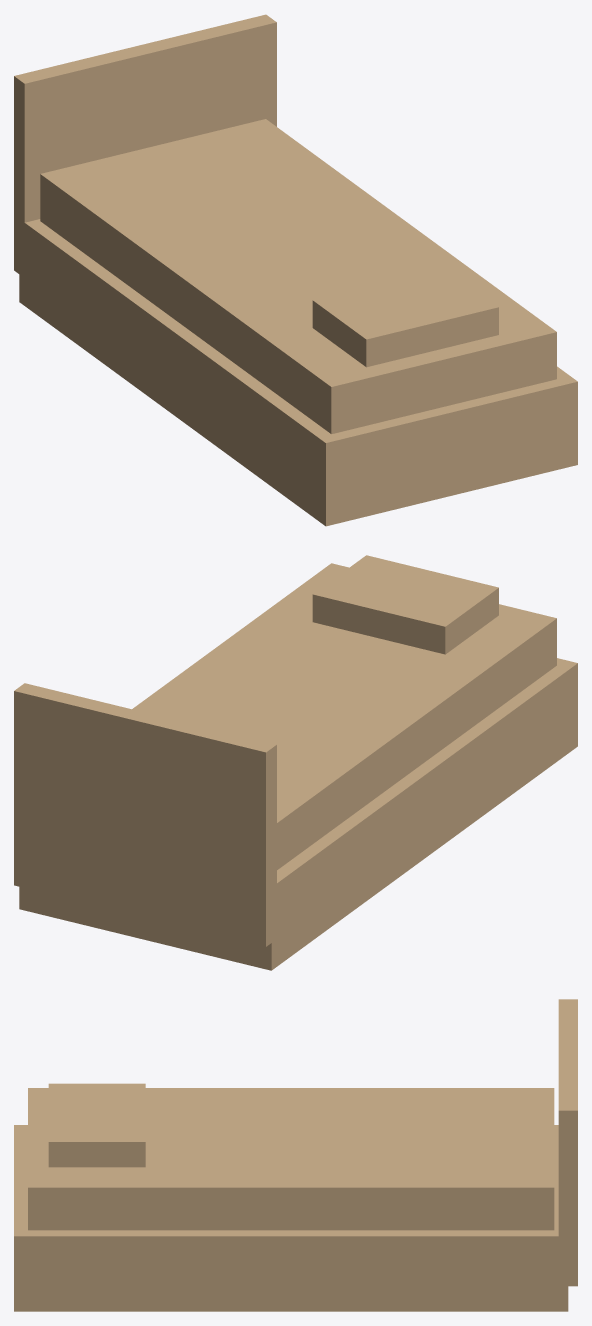
The model's file is fu_bed_single.glb.
3 renders of one model, top to bottom at view 1: azimuth 30°, elevation 25°; view 2: azimuth 150°, elevation 25°; view 3: azimuth 270°, elevation 25°, orthographic. The views are drawn at different scales.
Visible parts, largest first — view 1: fu_bed_single; view 2: fu_bed_single; view 3: fu_bed_single.
Boxes of the visible parts, x1=… form: fu_bed_single: x1=14, y1=14, x2=577, y2=526; fu_bed_single: x1=14, y1=555, x2=577, y2=970; fu_bed_single: x1=14, y1=999, x2=577, y2=1311.
Bounding box in the file's own units: 0.95 × 0.8 × 2.03.
